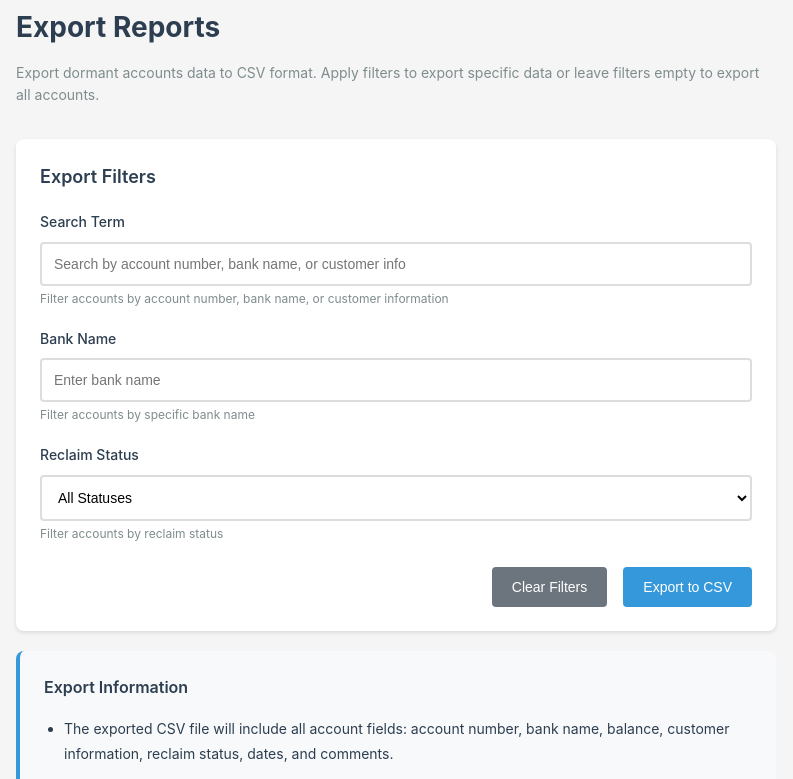
Reports Component › clears filters when clear button is clicked
This screenshot has width=793, height=779.
Set some filter values
In the field labelled "Search Term": (396, 264) [40, 242, 752, 286], type "test"
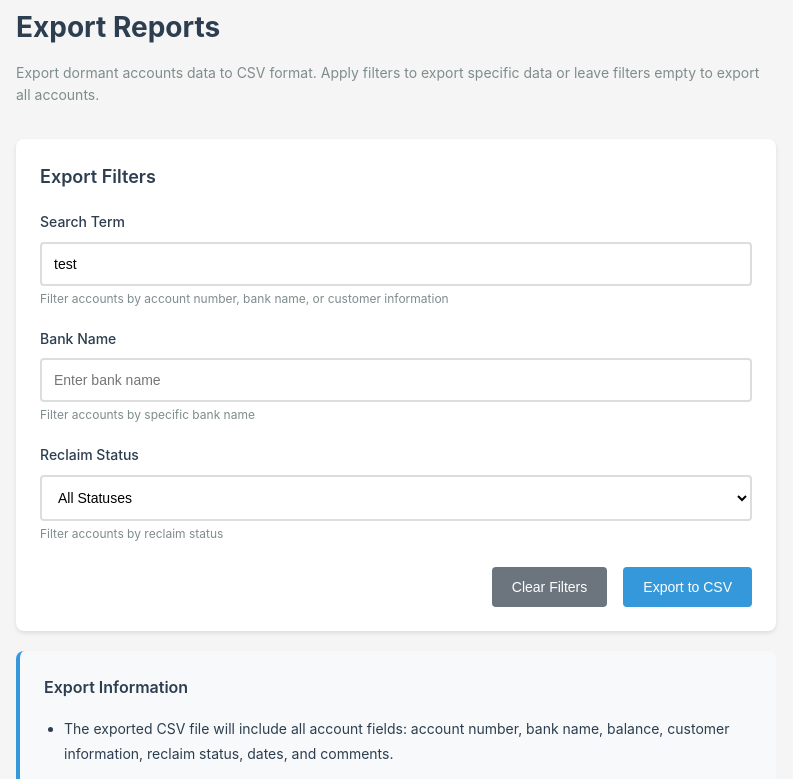
In the field labelled "Bank Name": (396, 380) [40, 358, 752, 402], type "bank"
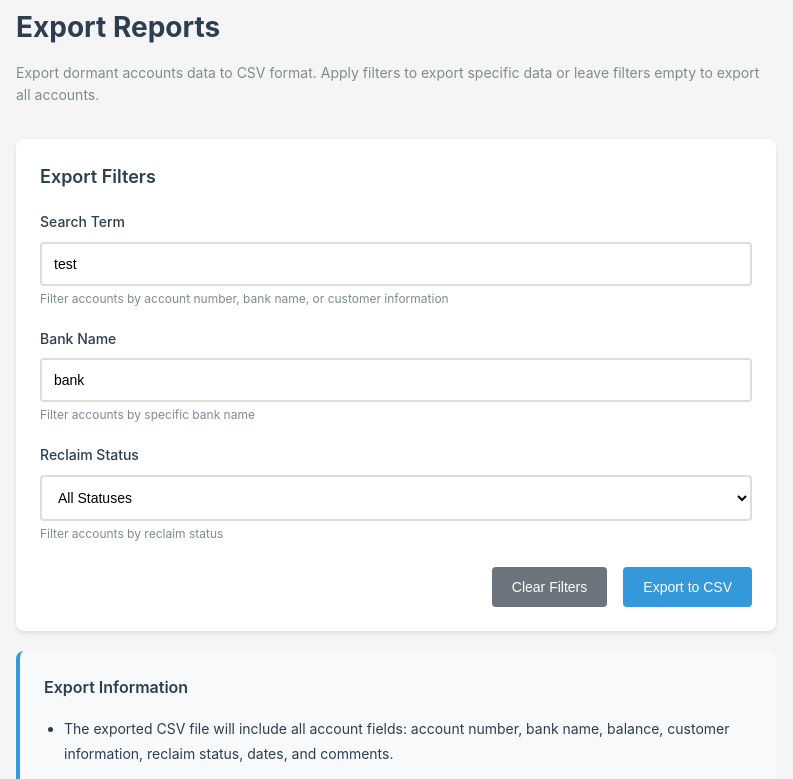
Click clear button
Click the button "Clear Filters": (550, 586) [492, 566, 607, 606]
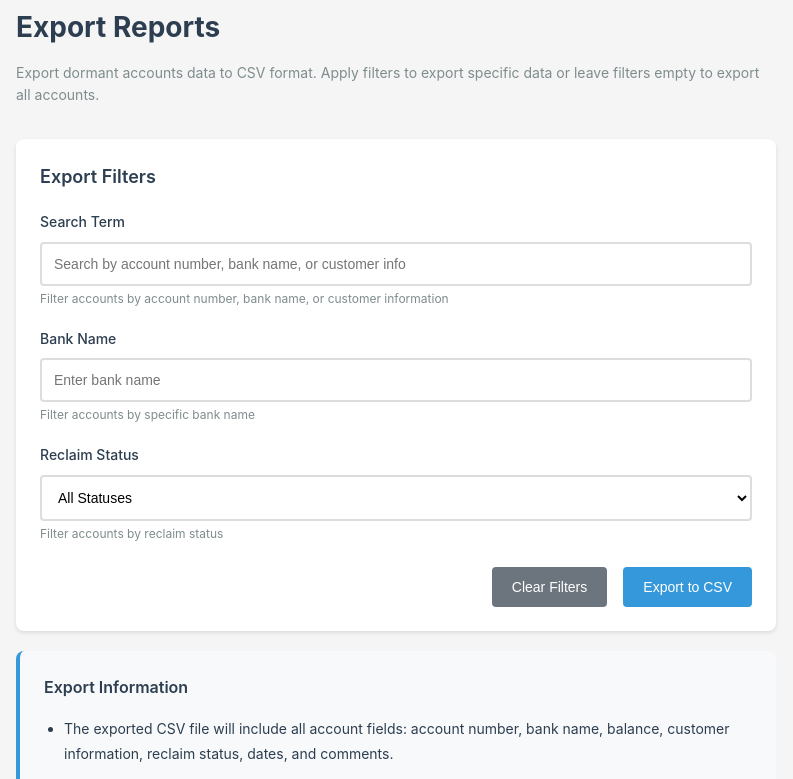
Expected: the field labelled "Search Term" is empty, [40, 242, 752, 286]
Expected: the field labelled "Bank Name" is empty, [40, 358, 752, 402]
